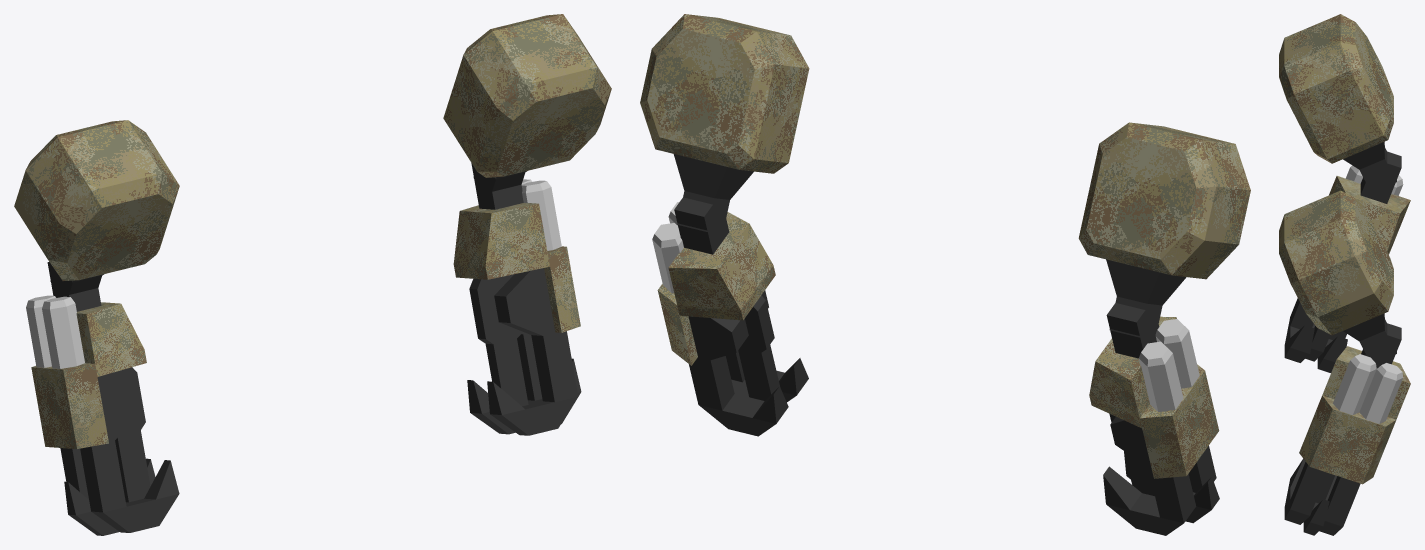
File: mech_arm_claw.glb
3 views of the same model, side by side, from view 1: azimuth 30°, elevation 25°; view 2: azimuth 150°, elevation 25°; view 3: azimuth 270°, elevation 25° (orthographic). The views are drawn at different scales.
Parts seen in each view (by area): view 1: Claw; view 2: Claw; view 3: Claw.
Part boxes in pixels (x1,y1,x2,y2): Claw: [14, 14, 611, 535]; Claw: [640, 14, 1250, 535]; Claw: [1279, 14, 1410, 535].
Size of the model in its own units: 1.88 by 1.3 by 0.4675.
Materials: 1 (1 with a texture image).
